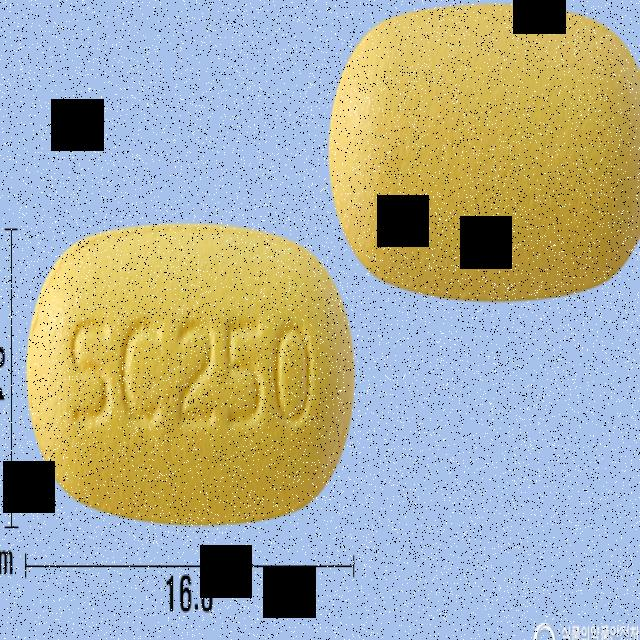Ceclacin: (24, 216, 359, 535)
